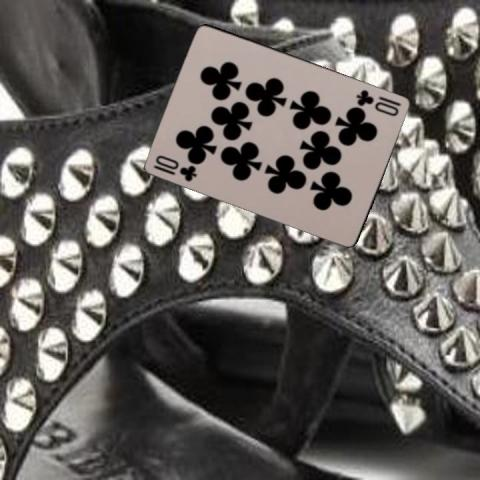10c: (353, 86, 403, 117), (151, 152, 199, 183)
